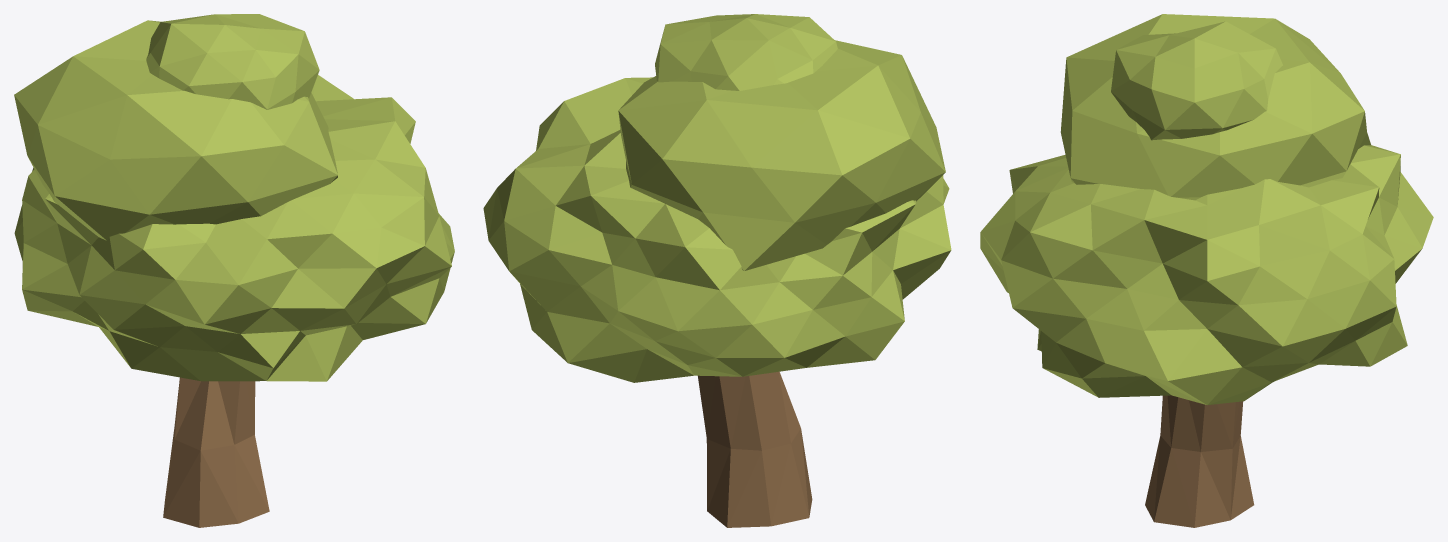
File: arbre_03.glb
3 views of the same model, side by side, from view 1: azimuth 30°, elevation 25°; view 2: azimuth 150°, elevation 25°; view 3: azimuth 270°, elevation 25° (orthographic). The views are drawn at different scales.
Visible parts, largest first — view 1: arbre_03; view 2: arbre_03; view 3: arbre_03.
Boxes of the visible parts, x1,y1,x2,y2 form: arbre_03: [14, 14, 454, 527]; arbre_03: [483, 14, 951, 527]; arbre_03: [980, 14, 1433, 527].
Bounding box in the file's own units: 3.14 × 3.6 × 3.13.
